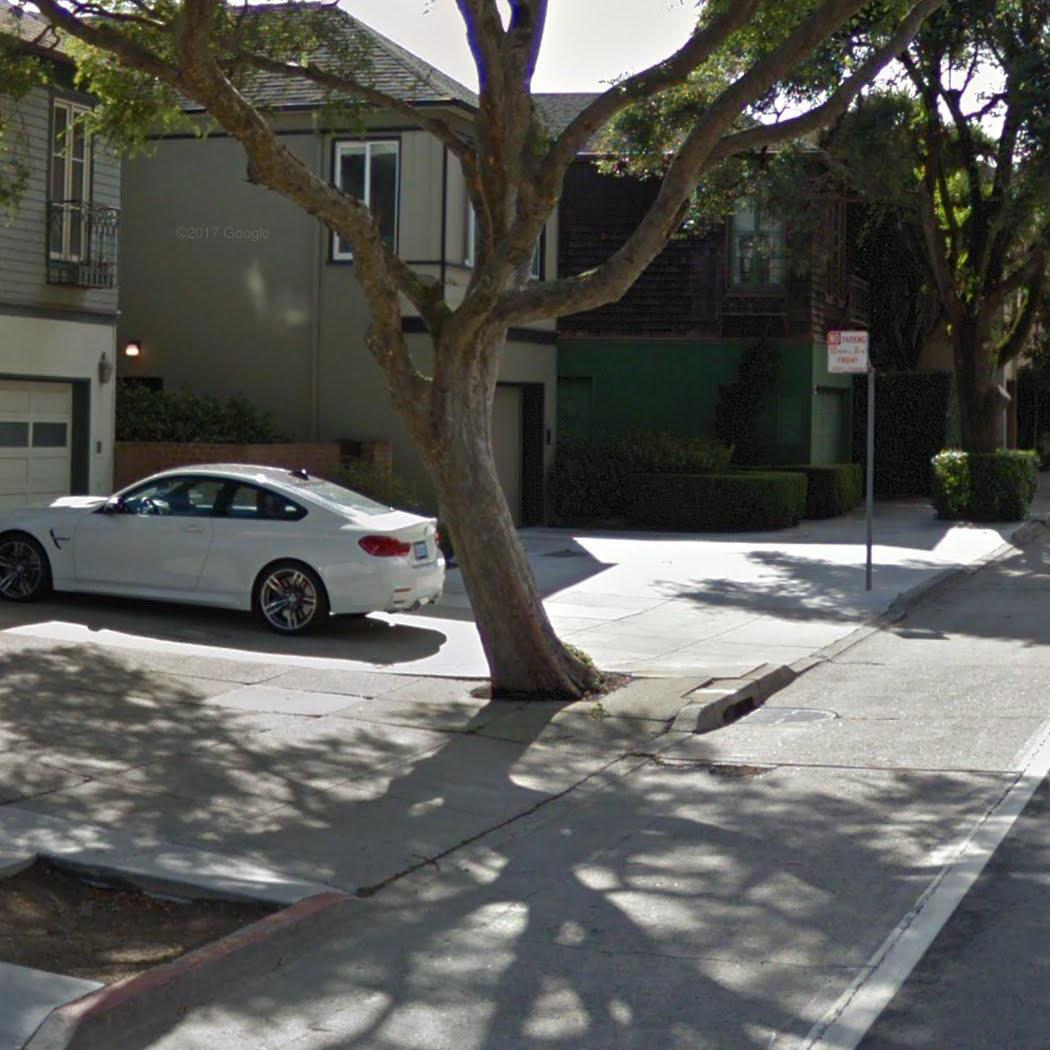No Parking: (826, 330, 869, 376)
